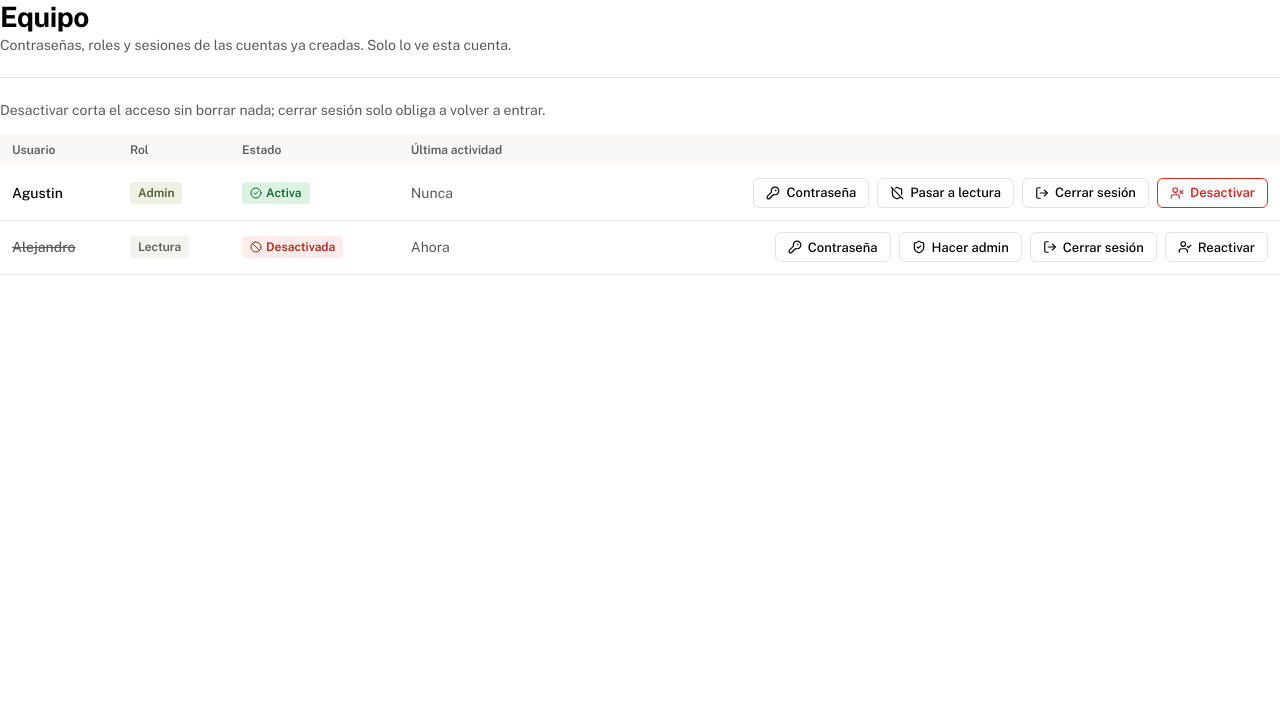
Test: GestionEquipo (página de Manager) › no resetea si la contraseña es corta
Later steps or results of the test are not shown.
Click the button "Contraseña" in the row of "Agustin" at [811, 193], box [754, 178, 869, 208]
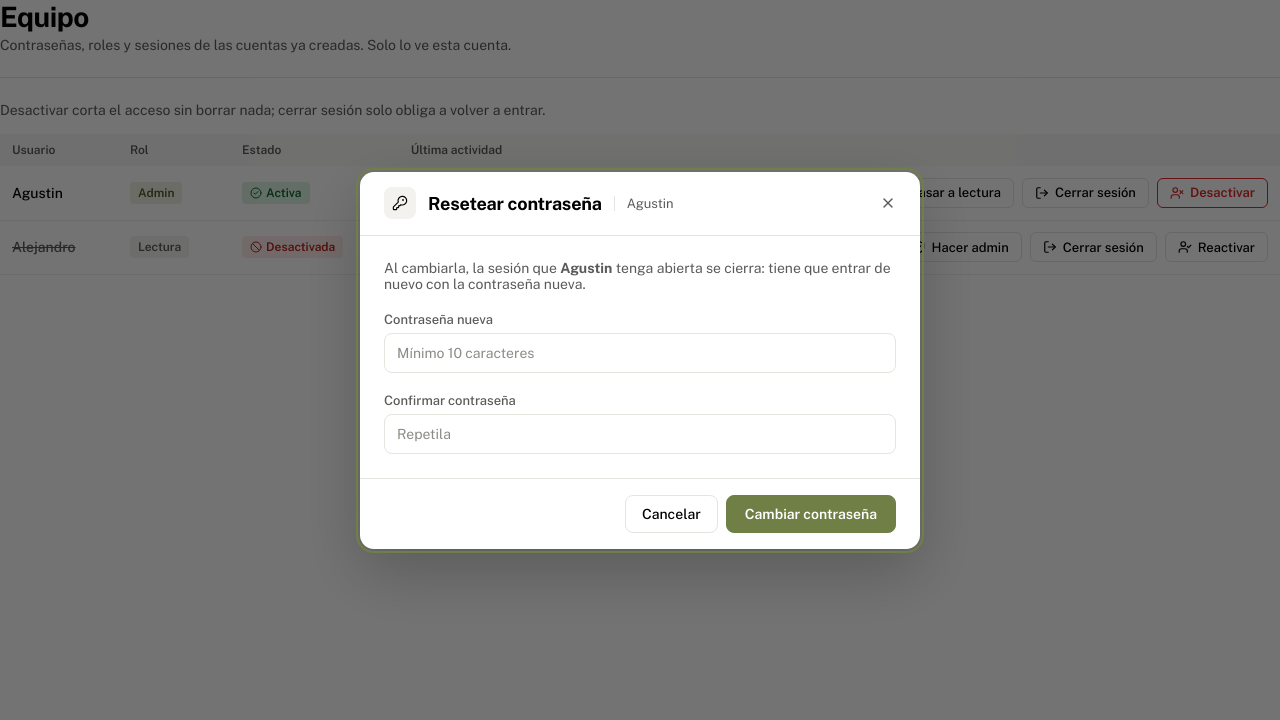
Type "corta-123" into the password field with placeholder "Mínimo 10 caracteres" at [640, 352], box [384, 332, 896, 372]
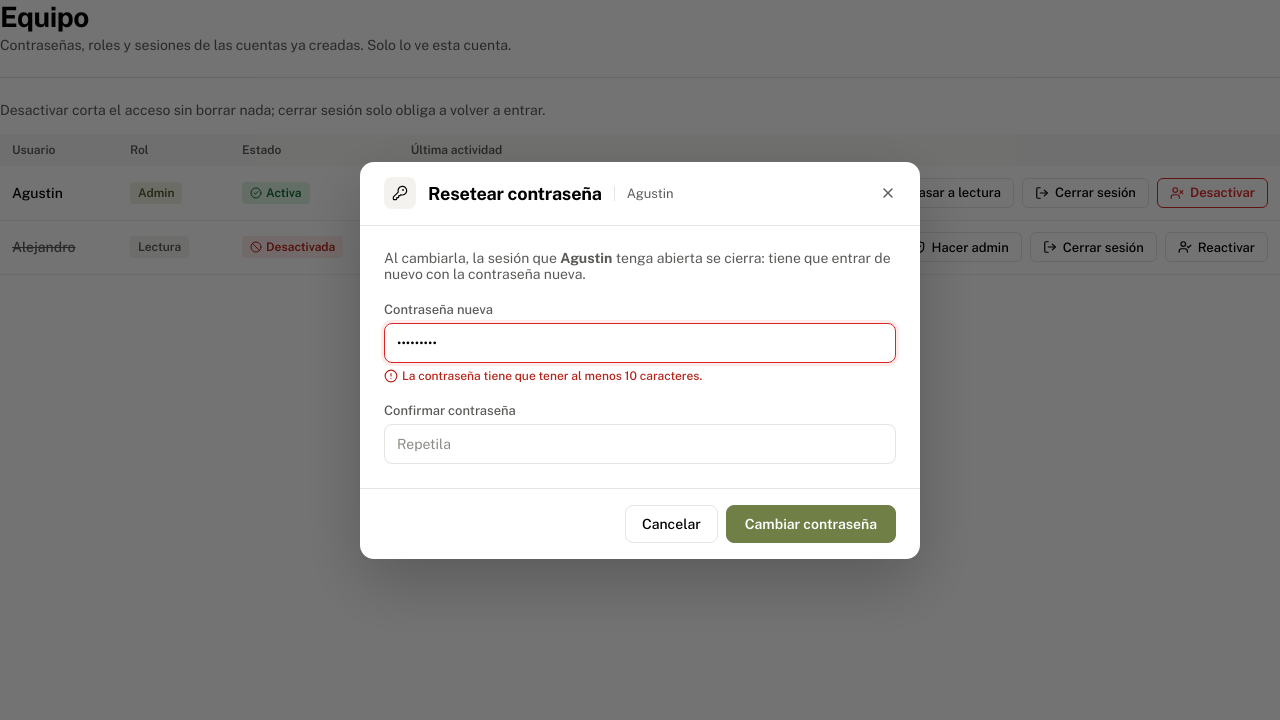
Type "corta-123" into the password field with placeholder "Repetila" at [640, 444], box [384, 424, 896, 464]
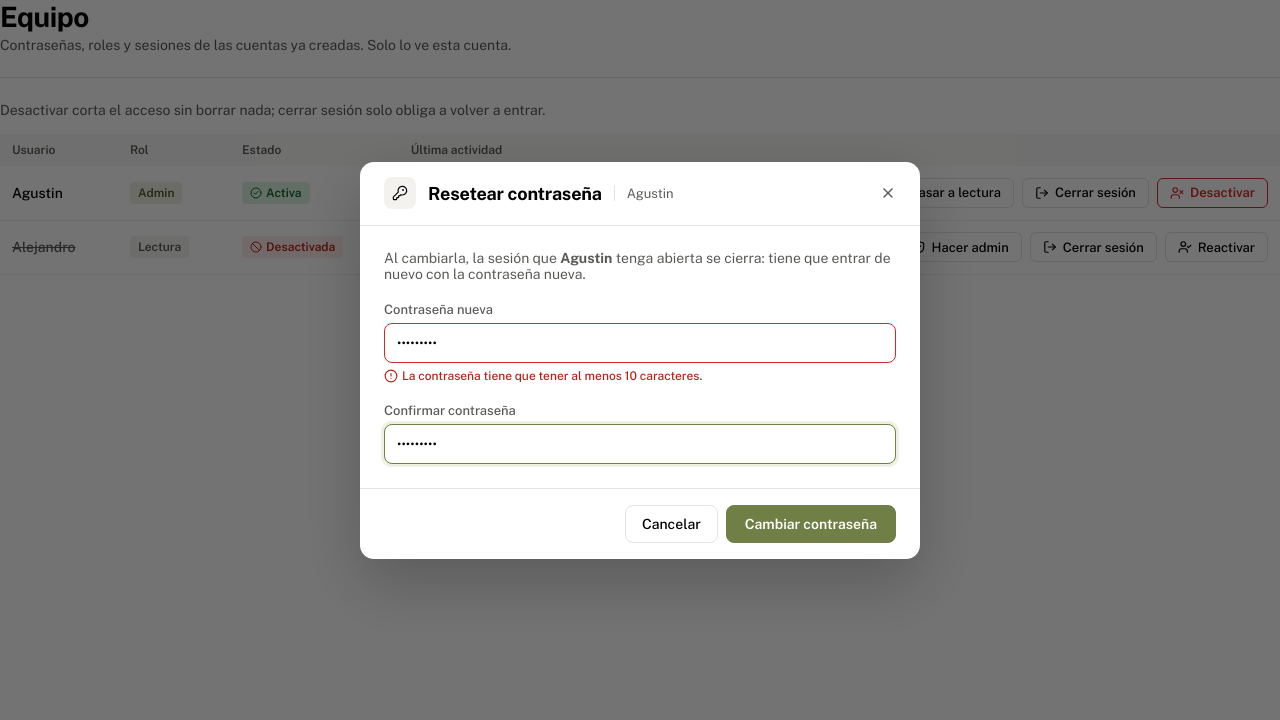
Expected: the text "La contraseña tiene que tener al menos 10 caracteres." is shown, [384, 368, 702, 382]
